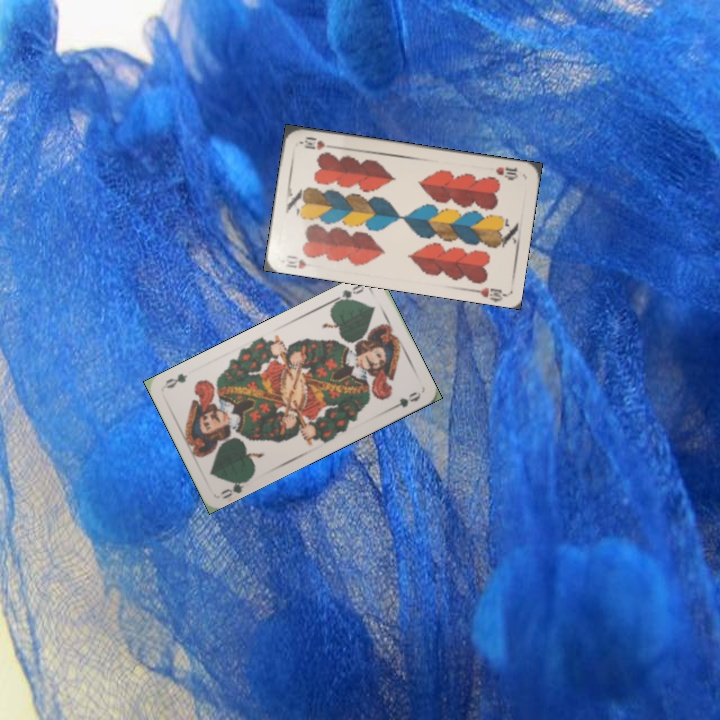GO: (217, 474, 253, 502), (330, 280, 367, 306)
H10: (281, 251, 309, 271), (492, 163, 520, 182)
